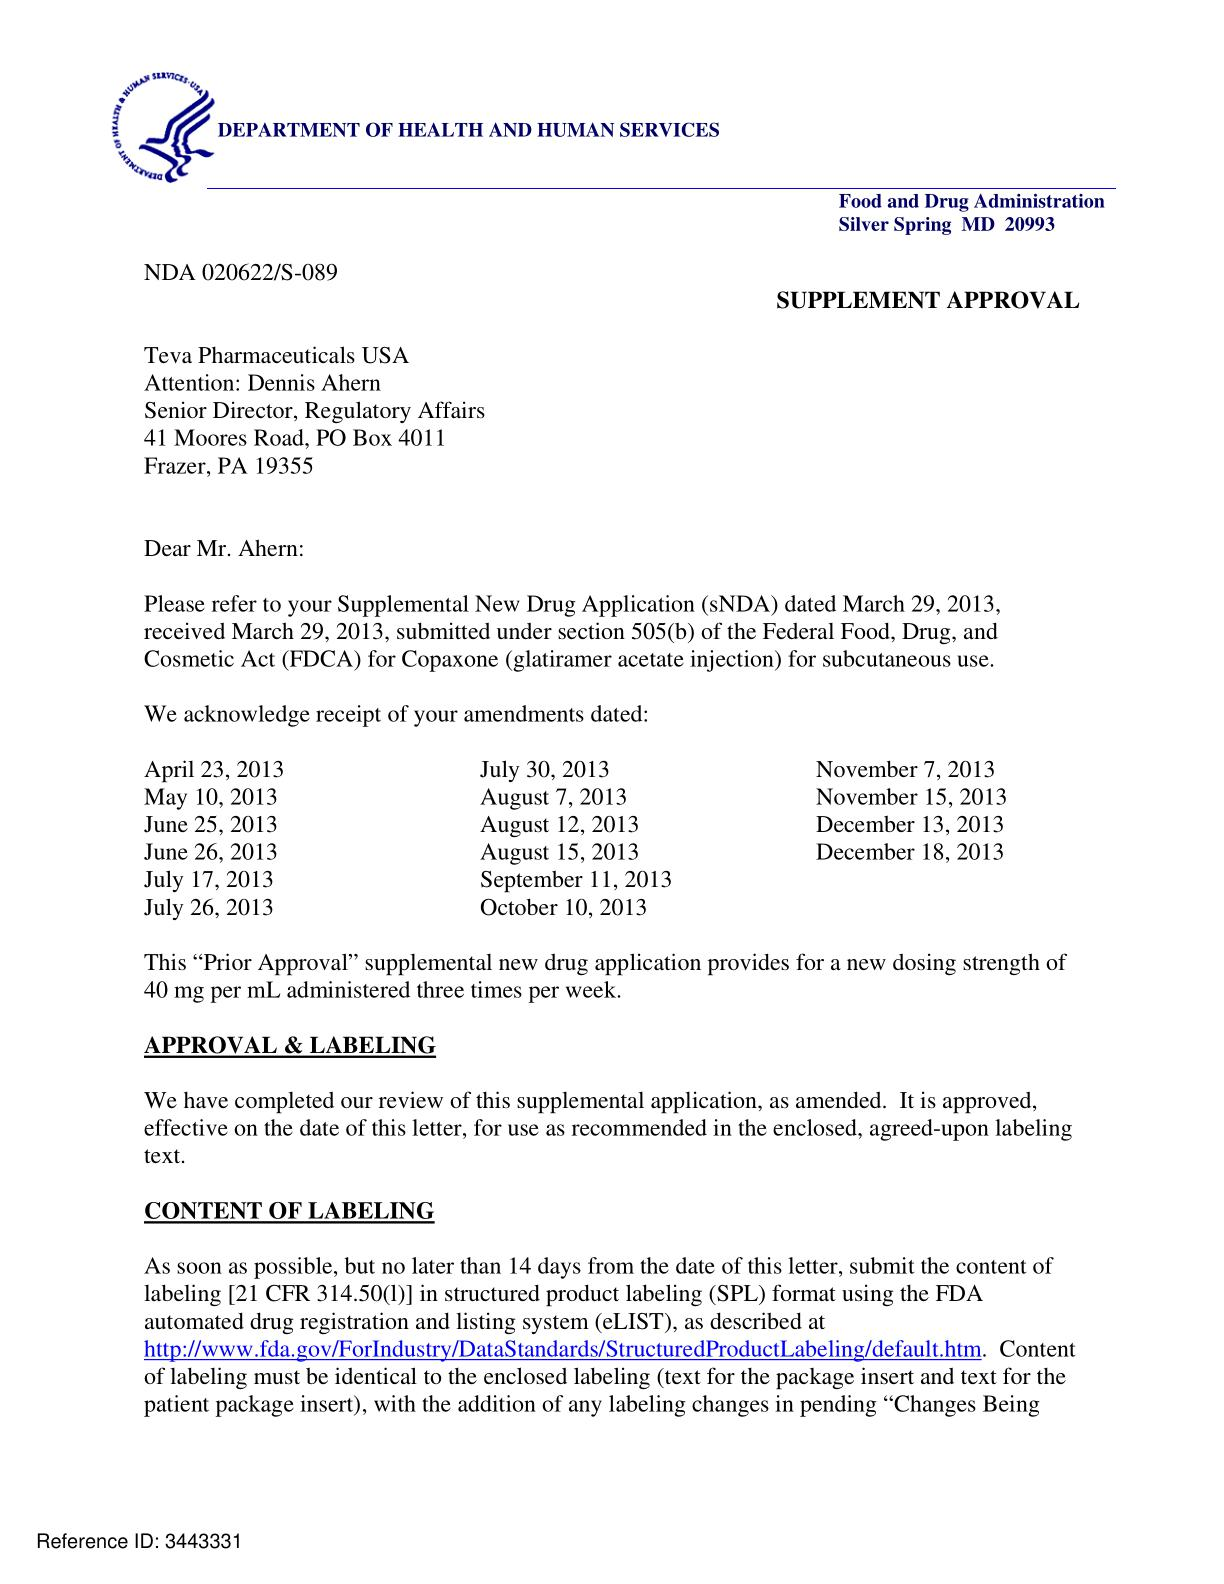nolines: (139, 755, 1011, 918)
